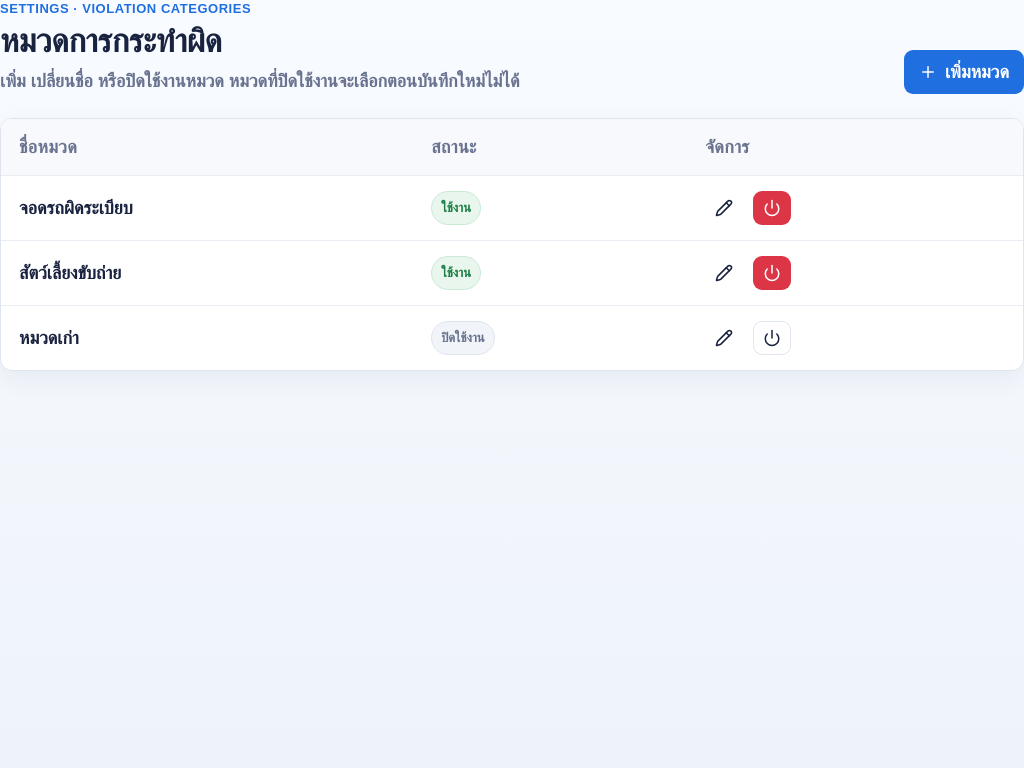
ViolationCategoriesPage › asks for confirmation before deactivating
Expected: the text "จอดรถผิดระเบียบ" is shown, top-left (1, 175), bottom-right (413, 240)
Click the button named "ปิดใช้งาน จอดรถผิดระเบียบ". click: coordinates (772, 208)
box: top-left (753, 191), bottom-right (791, 225)
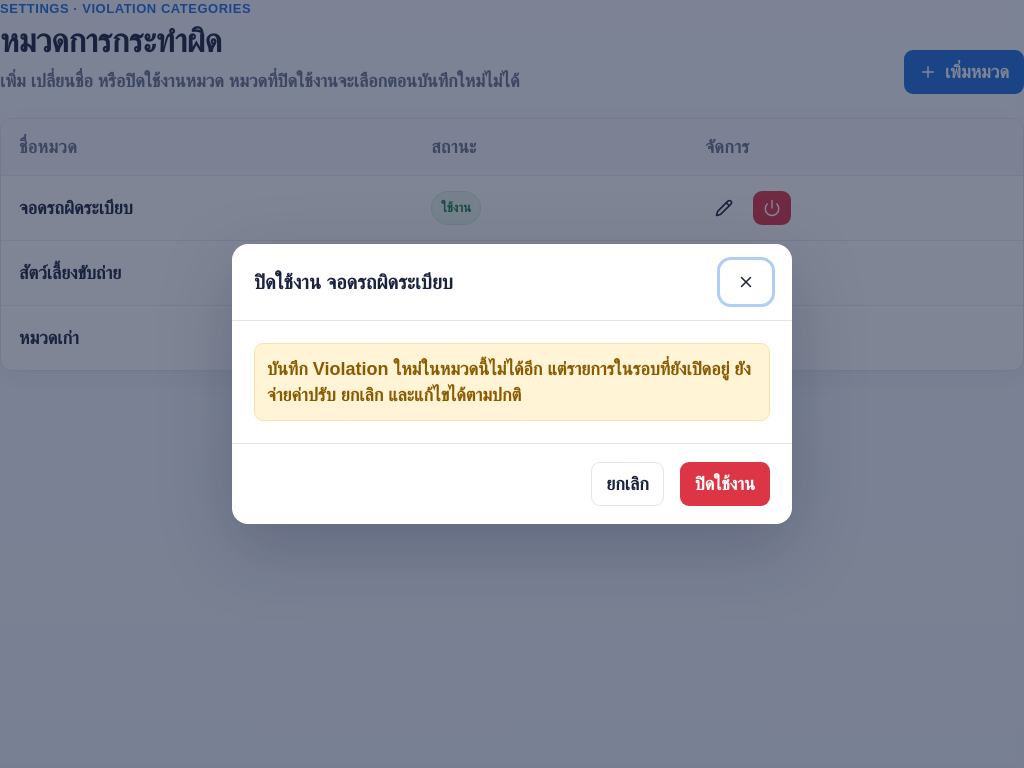
Click the button "ปิดใช้งาน". click: coordinates (725, 484)
box: top-left (680, 462), bottom-right (770, 506)
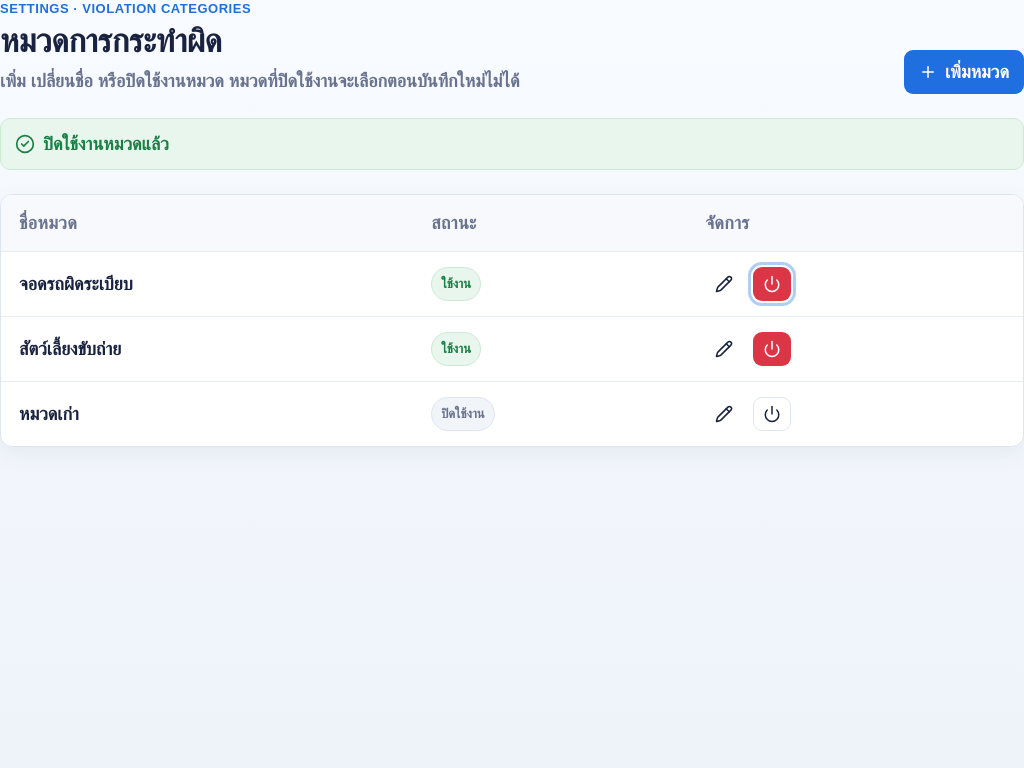
Expected: the text "ปิดใช้งานหมวดแล้ว" is shown, top-left (0, 118), bottom-right (1023, 170)
